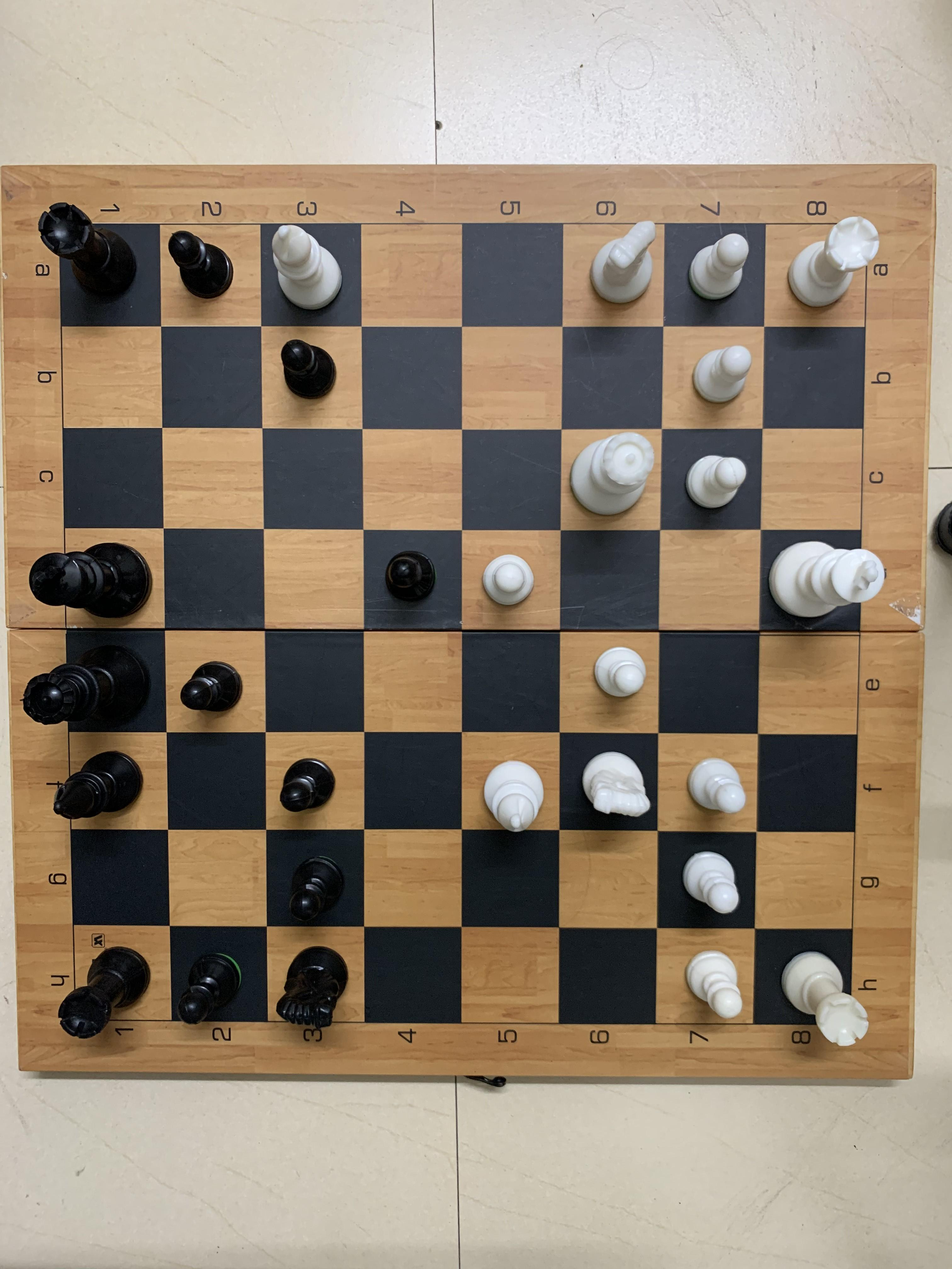black_bishop: (47, 742, 157, 837)
black_king: (11, 531, 170, 625)
black_knight: (271, 926, 363, 1042)
black_pawn: (148, 220, 247, 328), (173, 927, 264, 1038), (173, 630, 250, 727), (266, 332, 342, 425), (362, 535, 440, 621), (274, 742, 351, 820), (275, 839, 354, 915)
black_queen: (22, 644, 161, 738)
black_rook: (35, 200, 156, 320), (57, 922, 156, 1047)
white_bishop: (466, 734, 556, 844), (260, 217, 354, 320)
white_king: (765, 523, 891, 638)
white_knight: (560, 732, 653, 828), (573, 227, 663, 317)
white_pawn: (565, 625, 657, 731), (675, 216, 761, 319), (669, 436, 765, 526), (671, 336, 766, 424), (475, 537, 562, 625), (669, 940, 760, 1023), (666, 742, 754, 823), (671, 833, 751, 922)
white_queen: (570, 417, 660, 524)
white_rook: (773, 933, 895, 1066), (765, 206, 892, 328)
